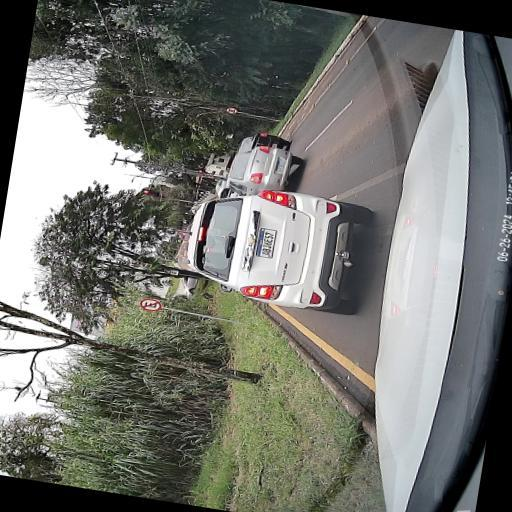R-6a: (138, 296, 162, 311)
R-6c: (224, 106, 238, 114)
